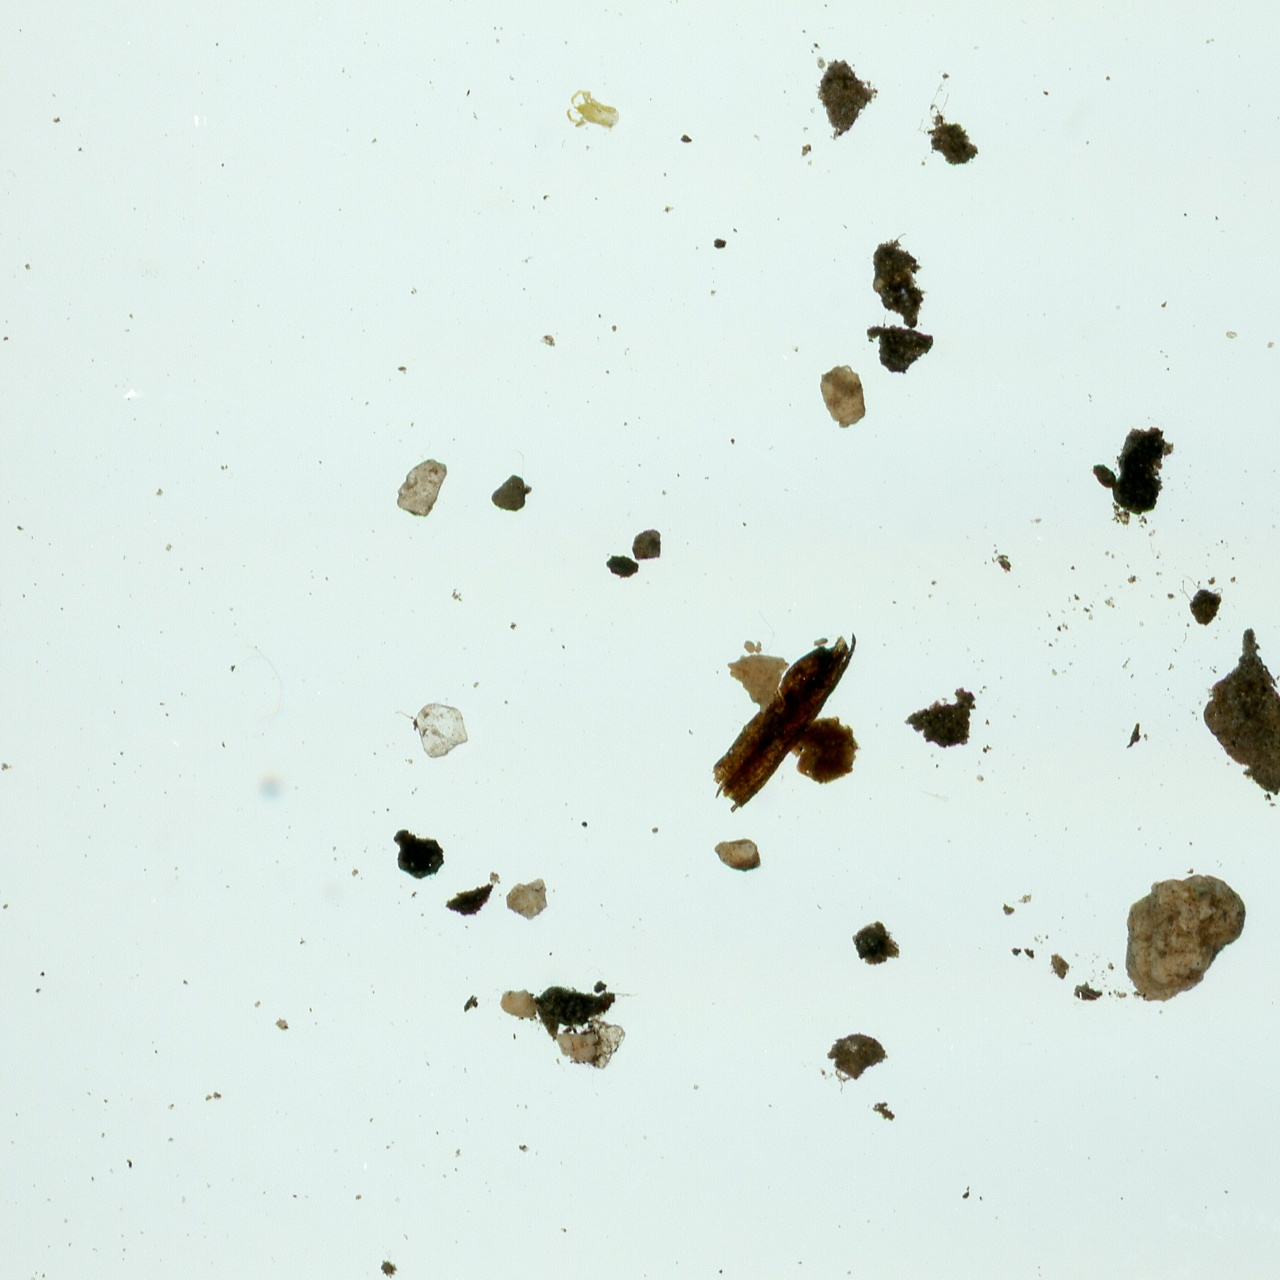arthropod: (563, 85, 622, 131)
